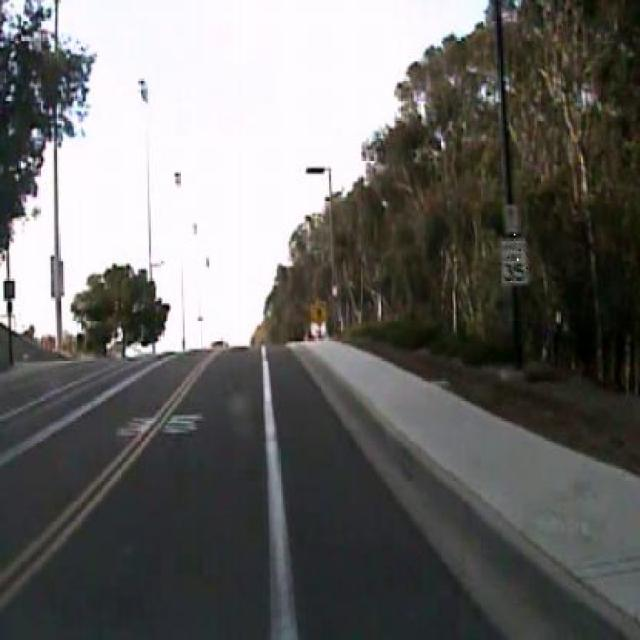speedLimit35: (498, 234, 528, 285)
